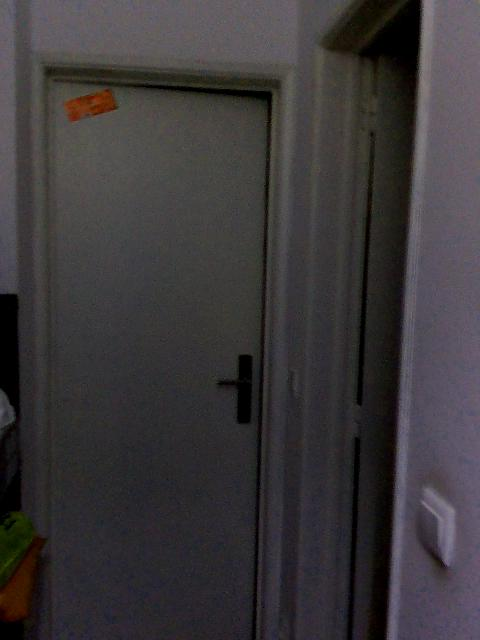closed_door: (40, 62, 290, 639)
